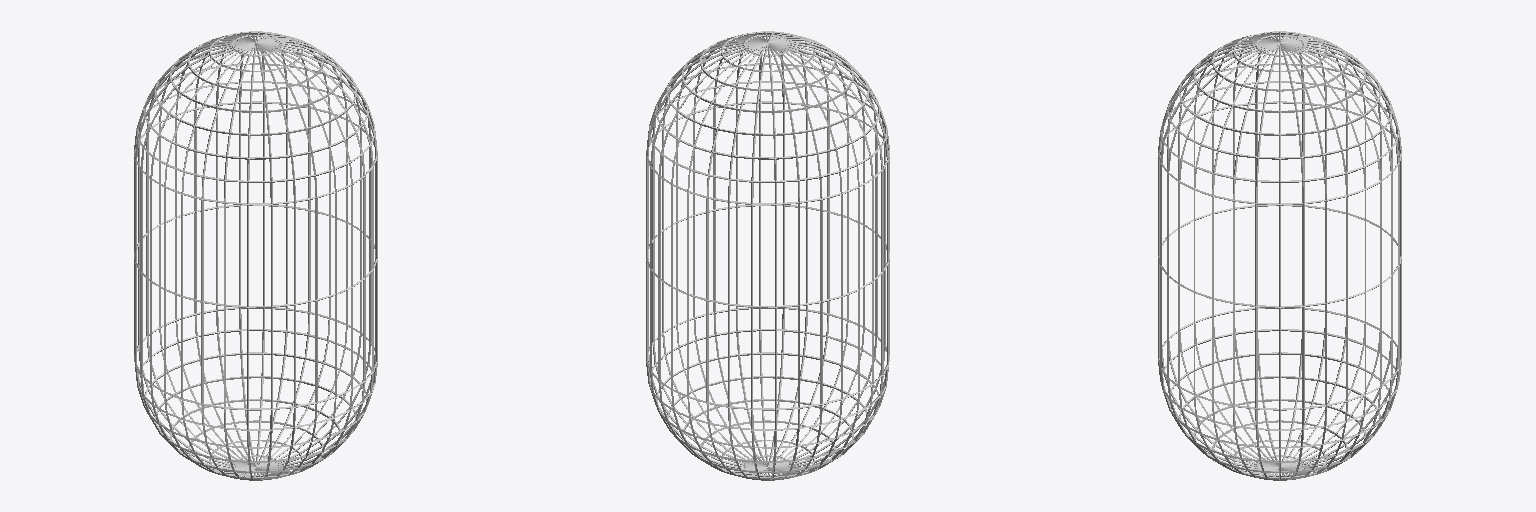
The model's file is CapsuleWireframe.obj.
3 views of the same model, side by side, from view 1: azimuth 30°, elevation 25°; view 2: azimuth 150°, elevation 25°; view 3: azimuth 270°, elevation 25° (orthographic).
Visible parts, largest first — view 1: Sphere; view 2: Sphere; view 3: Sphere.
Part boxes in pixels (x1,y1,x2,y2): Sphere: (134, 31, 377, 480); Sphere: (646, 31, 889, 480); Sphere: (1158, 31, 1401, 480).
Size of the model in its own units: 100 by 193 by 100.